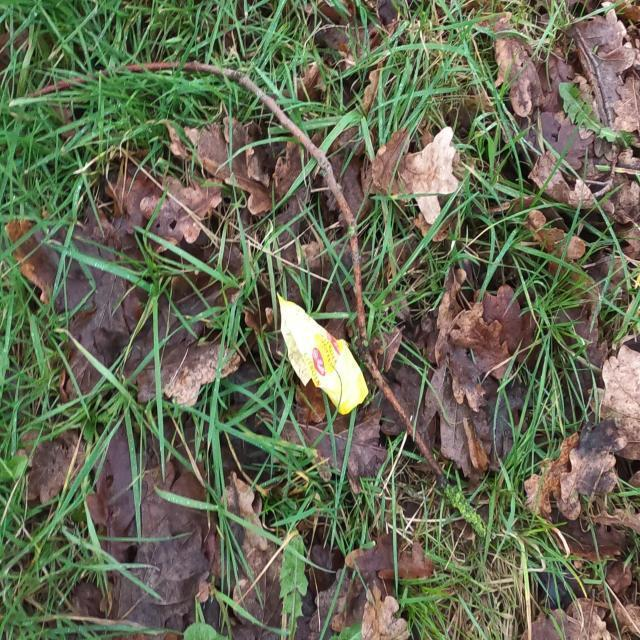Plastic: (276, 290, 370, 416)
